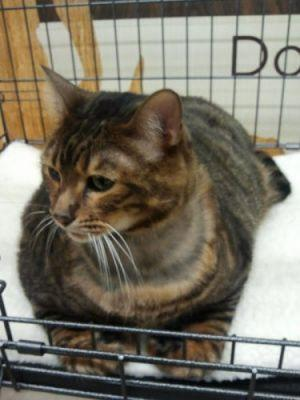bengal: (30, 62, 203, 254)
